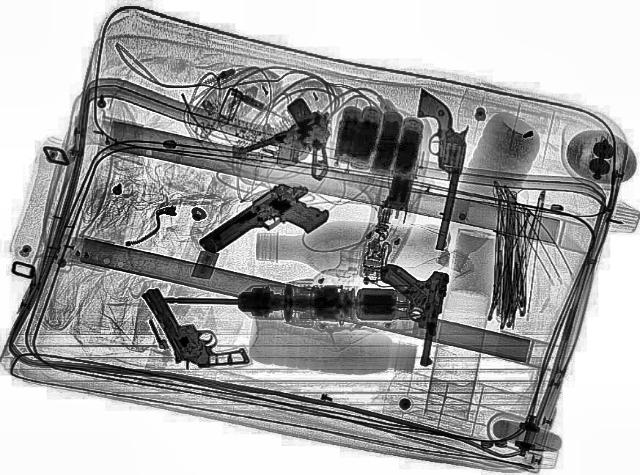Gun: (190, 174, 342, 276), (389, 87, 477, 251), (228, 110, 366, 198), (138, 274, 252, 376), (368, 262, 452, 366)
